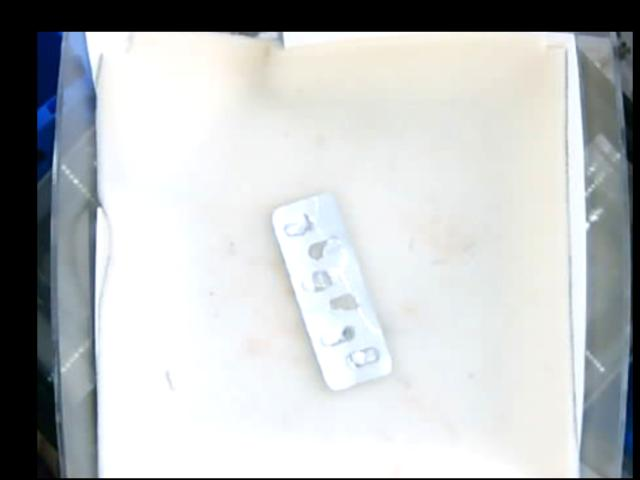Medicine: (274, 193, 389, 393)
